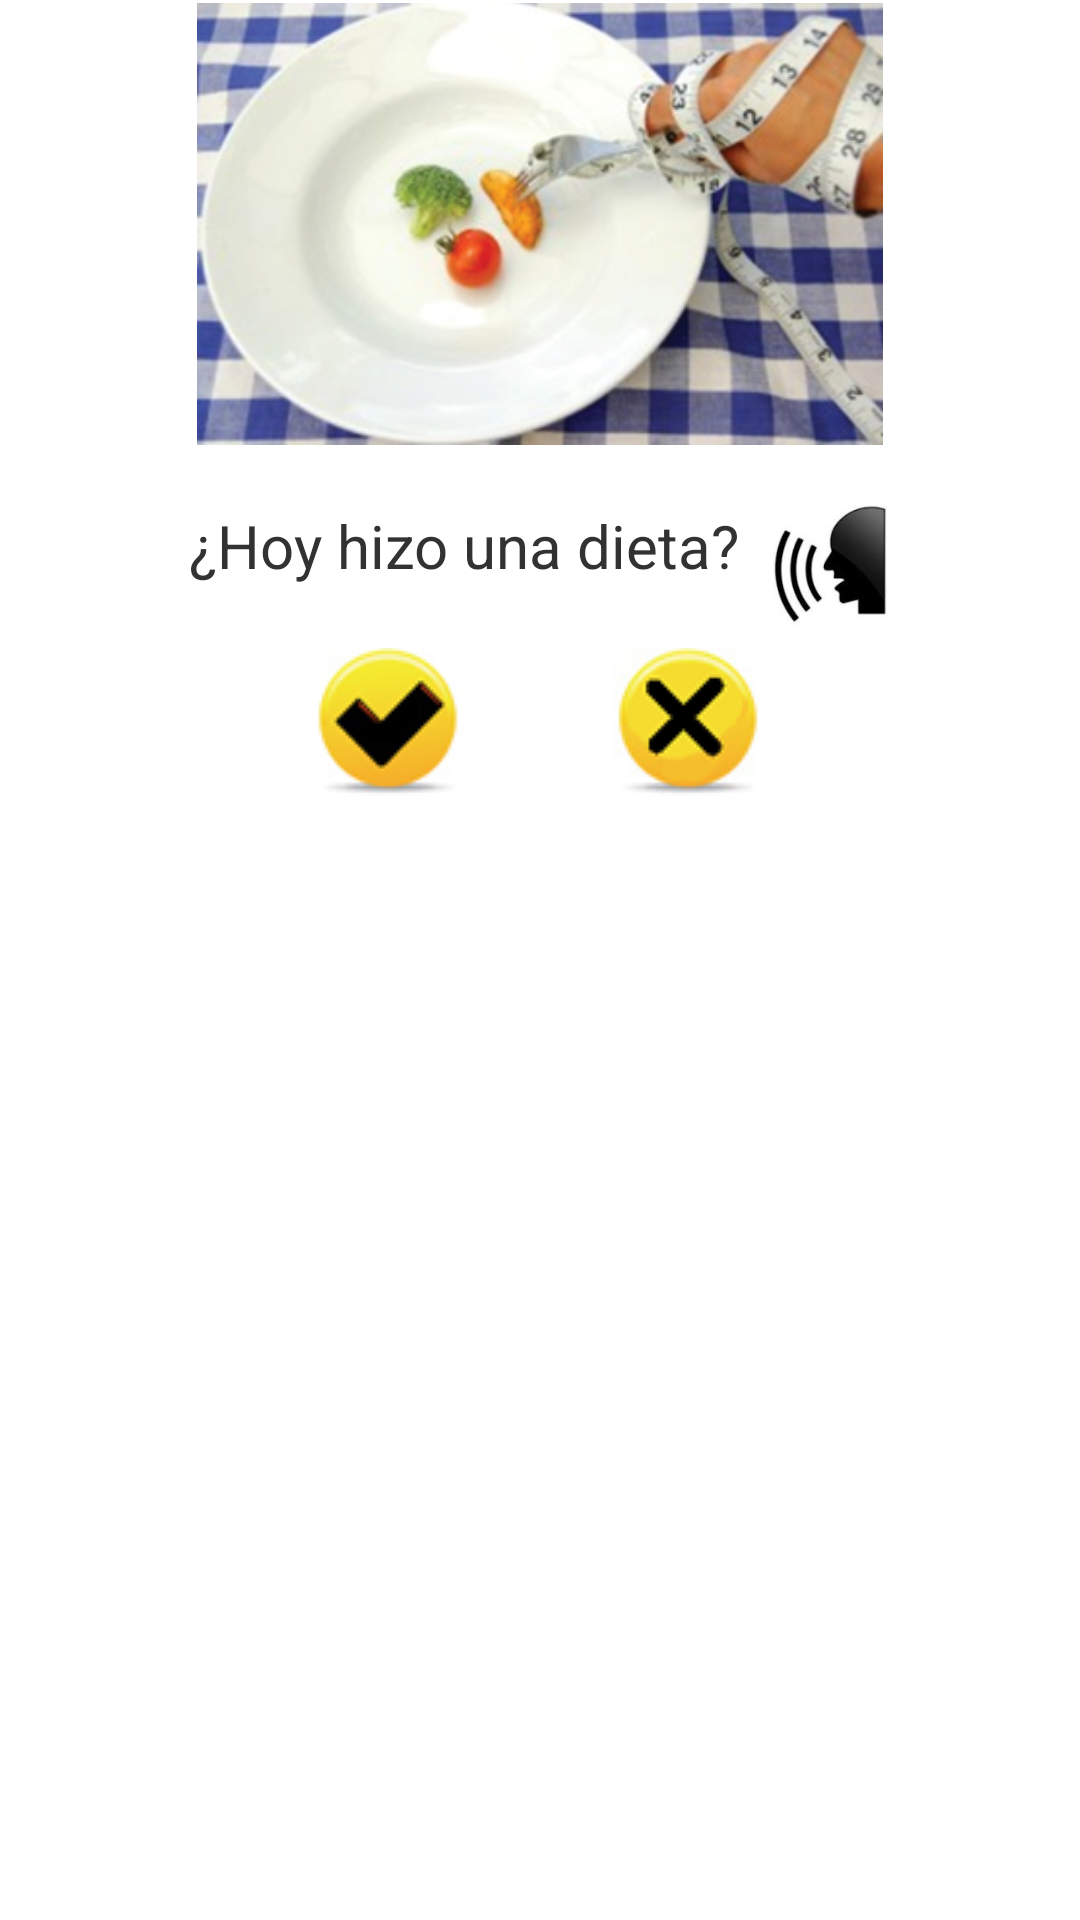

Icon bounding boxes for this 1080x1920 phone screenshot, format bbox=[x1, y1, x2, y2]:
approve: bbox=[318, 648, 458, 793]
remove: bbox=[618, 648, 758, 793]
Sound Icon: bbox=[774, 506, 886, 622]
